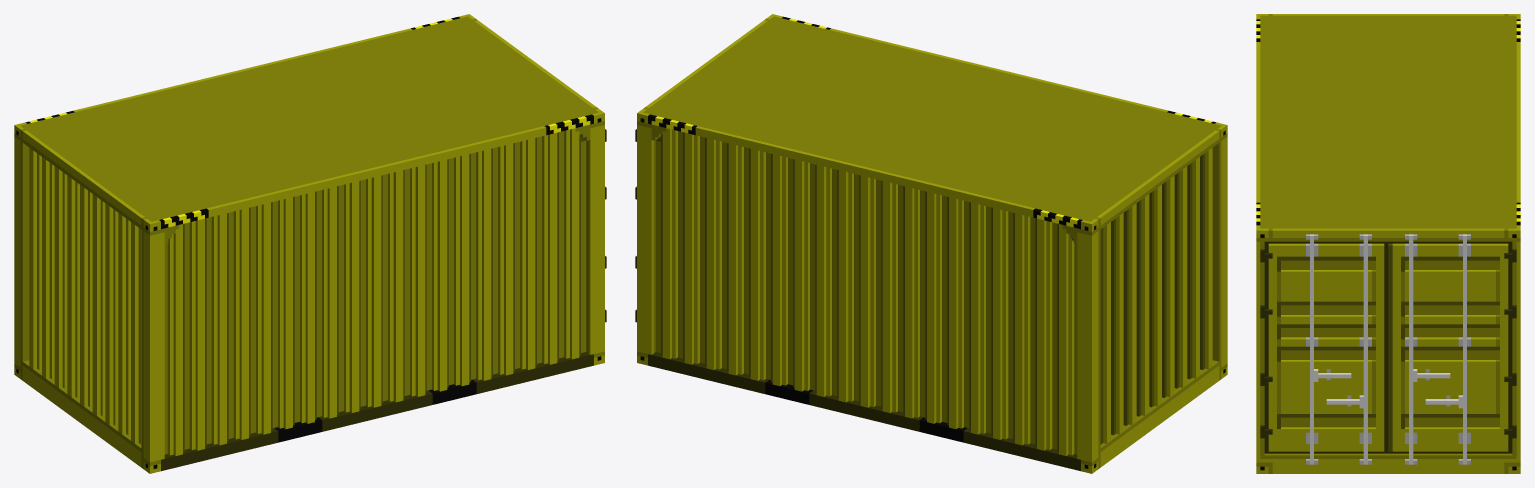
Rendered from ShippingCrateYellow.obj.
3 renders of one model, left to right at view 1: azimuth 30°, elevation 25°; view 2: azimuth 150°, elevation 25°; view 3: azimuth 270°, elevation 25°, orthographic. The views are drawn at different scales.
Size of the model in its own units: 12.5 by 6.5 by 6.4.
Materials: 1 (1 with a texture image).
